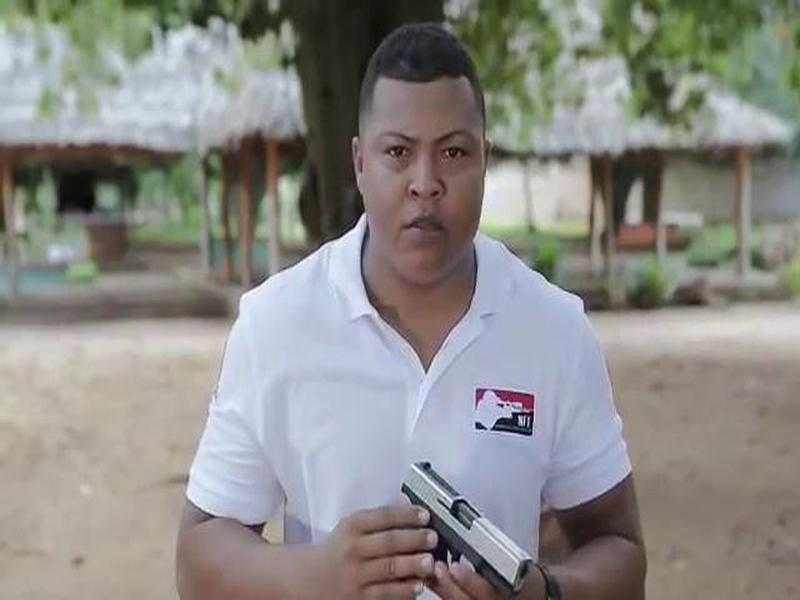Pistola: (389, 453, 537, 600)
